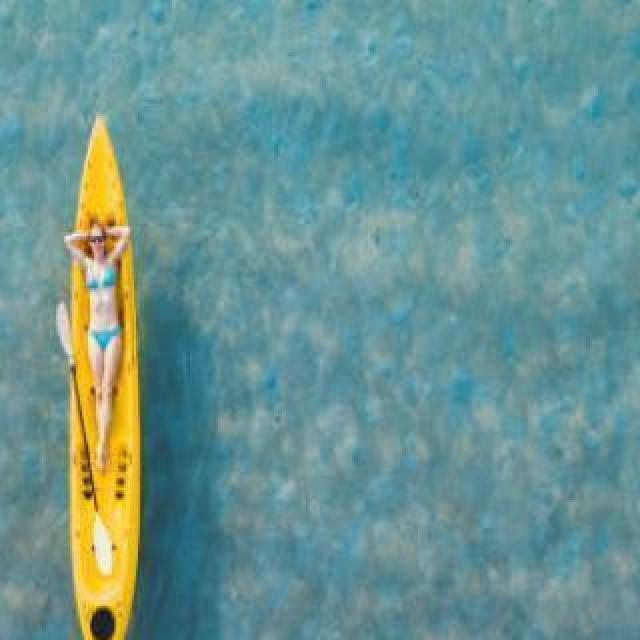kayak: (65, 249, 140, 640), (65, 115, 125, 249)
